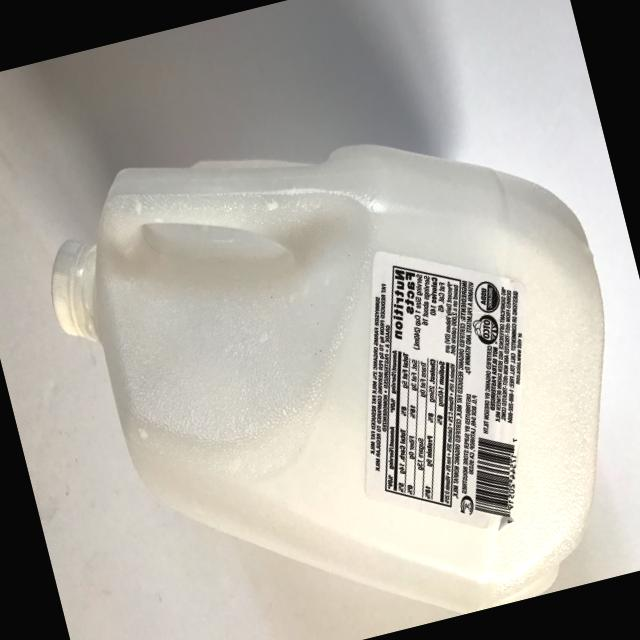Plastic: (8, 37, 640, 640)
